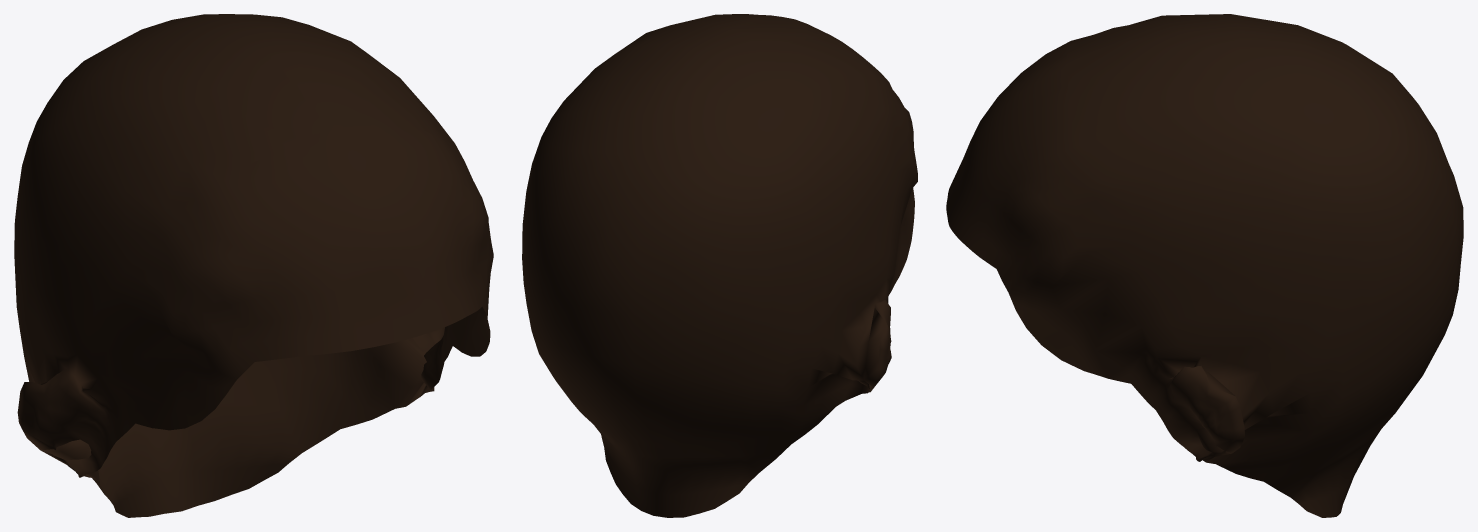
File: hair_slicked.glb
3 renders of one model, left to right at view 1: azimuth 30°, elevation 25°; view 2: azimuth 150°, elevation 25°; view 3: azimuth 270°, elevation 25°, orthographic. The views are drawn at different scales.
Visible parts, largest first — view 1: hair_slicked; view 2: hair_slicked; view 3: hair_slicked.
Part boxes in pixels (left/top/right/bottom): hair_slicked: left=14, top=14, right=493, bottom=517; hair_slicked: left=522, top=14, right=917, bottom=517; hair_slicked: left=946, top=14, right=1463, bottom=517.
Size of the model in its own units: 0.1968 by 0.2283 by 0.2262.
